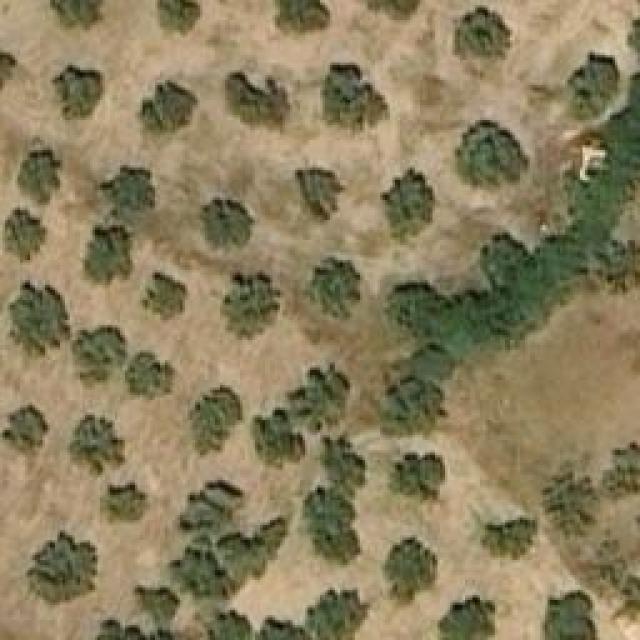Tree: (28, 530, 98, 605), (5, 278, 68, 361), (322, 63, 390, 136), (455, 120, 528, 185), (305, 485, 360, 563), (220, 272, 283, 340), (68, 415, 128, 485), (378, 378, 448, 438), (538, 470, 601, 535), (383, 168, 436, 243), (190, 385, 245, 455), (568, 50, 621, 120), (383, 538, 438, 603), (138, 80, 198, 138), (70, 325, 128, 385), (228, 73, 291, 128), (293, 365, 348, 428), (180, 480, 238, 538), (304, 587, 367, 640), (250, 408, 305, 468), (385, 278, 444, 333), (170, 542, 225, 600), (310, 258, 360, 321), (387, 455, 445, 508), (480, 227, 531, 286), (198, 198, 253, 251), (455, 8, 510, 61), (53, 65, 103, 123), (85, 227, 133, 285), (295, 168, 345, 223), (125, 350, 175, 403), (0, 208, 48, 263), (18, 147, 63, 205), (437, 595, 495, 640), (2, 405, 50, 458), (545, 592, 598, 640), (480, 518, 538, 561), (100, 168, 155, 211), (602, 445, 640, 498), (100, 483, 150, 523), (143, 273, 188, 313), (275, 0, 330, 32), (158, 0, 203, 38), (255, 615, 318, 640), (135, 587, 175, 625), (50, 0, 103, 28), (207, 610, 255, 640), (365, 0, 423, 20)
